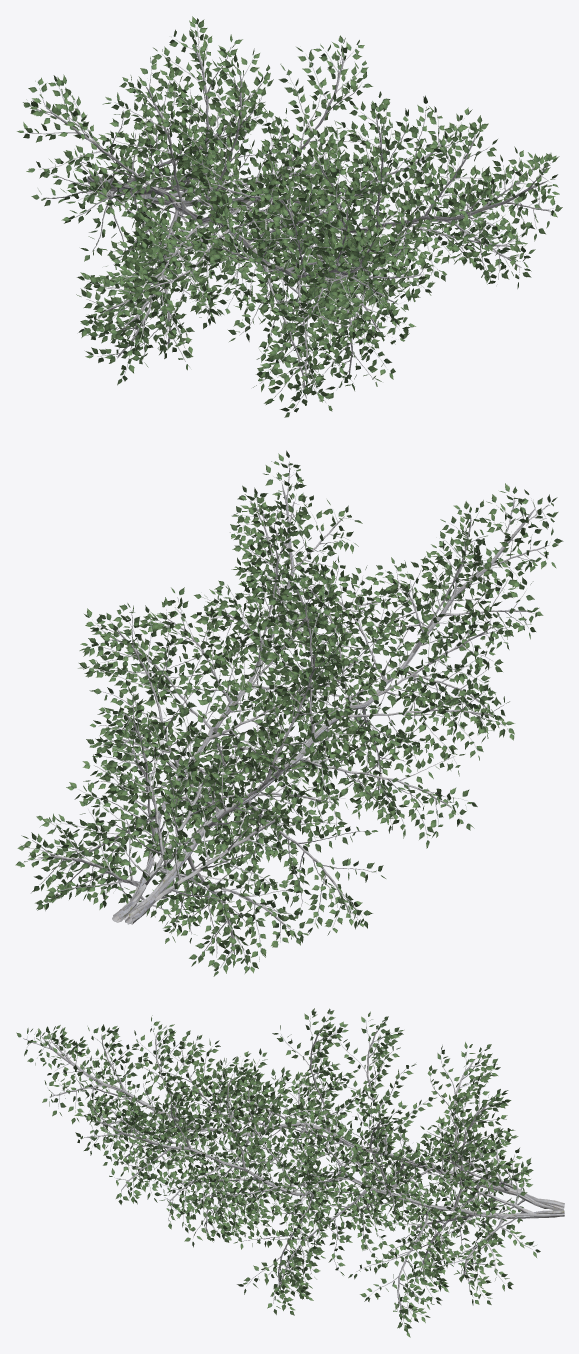
3 views of the same model, one above another, from view 1: azimuth 30°, elevation 25°; view 2: azimuth 150°, elevation 25°; view 3: azimuth 270°, elevation 25° (orthographic). The views are drawn at different scales.
Parts seen in each view (by area): view 1: BL03m; view 2: BL03m; view 3: BL03m.
Boxes of the visible parts, left/top/right/bottom form: BL03m: left=17, top=16, right=562, bottom=417; BL03m: left=15, top=450, right=563, bottom=976; BL03m: left=16, top=1008, right=564, bottom=1337.
Bounding box in the file's own units: 4.47 × 3.97 × 6.99.
2 materials, 2 textured.
